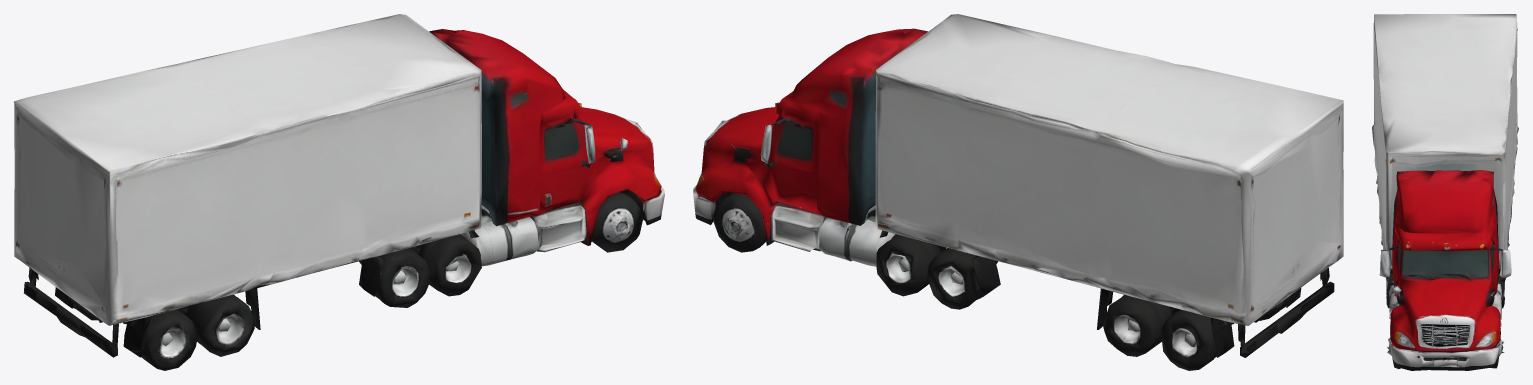
The model's file is semi_truck.glb.
3 views of the same model, side by side, from view 1: azimuth 30°, elevation 25°; view 2: azimuth 150°, elevation 25°; view 3: azimuth 270°, elevation 25° (orthographic). The views are drawn at different scales.
Visible parts, largest first — view 1: tripo_node_486a4e04-1d0b-484f-967e-ee43b1fcb4f5; view 2: tripo_node_486a4e04-1d0b-484f-967e-ee43b1fcb4f5; view 3: tripo_node_486a4e04-1d0b-484f-967e-ee43b1fcb4f5.
Boxes of the visible parts, x1,y1,x2,y2 form: tripo_node_486a4e04-1d0b-484f-967e-ee43b1fcb4f5: (14,14,664,370); tripo_node_486a4e04-1d0b-484f-967e-ee43b1fcb4f5: (693,14,1343,370); tripo_node_486a4e04-1d0b-484f-967e-ee43b1fcb4f5: (1372,14,1518,370).
Bounding box in the file's own units: 1 × 0.36 × 0.2926.
Materials: 1 (1 with a texture image).
